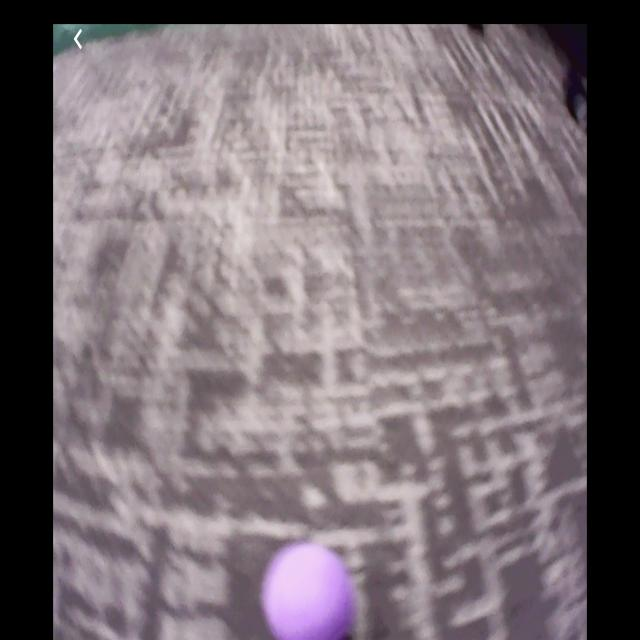ball: (265, 542, 349, 640)
